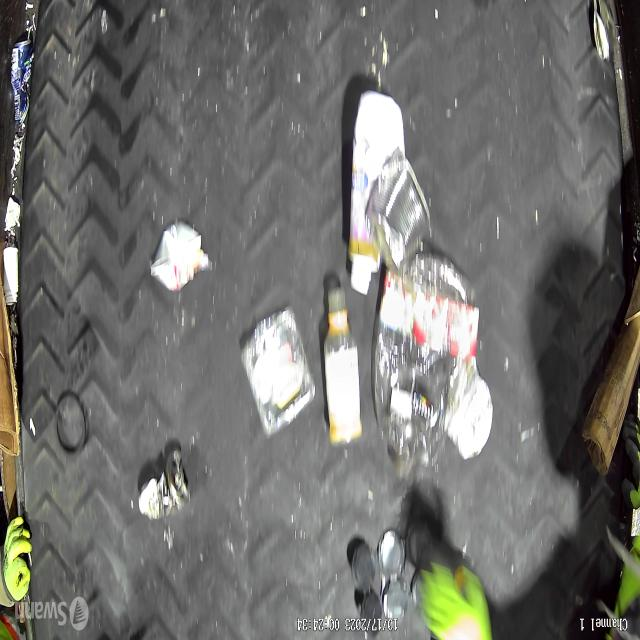can: (365, 149, 429, 275), (11, 39, 33, 125)
plastic_bottle: (323, 283, 363, 449)
